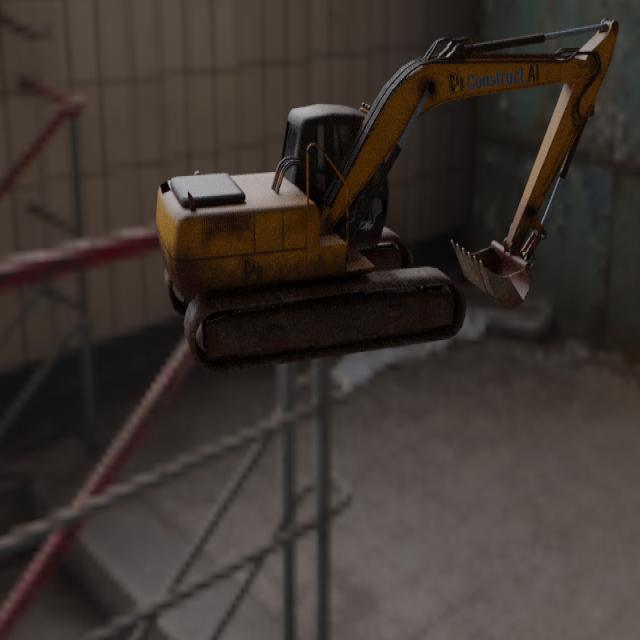excavator: (155, 18, 619, 374)
